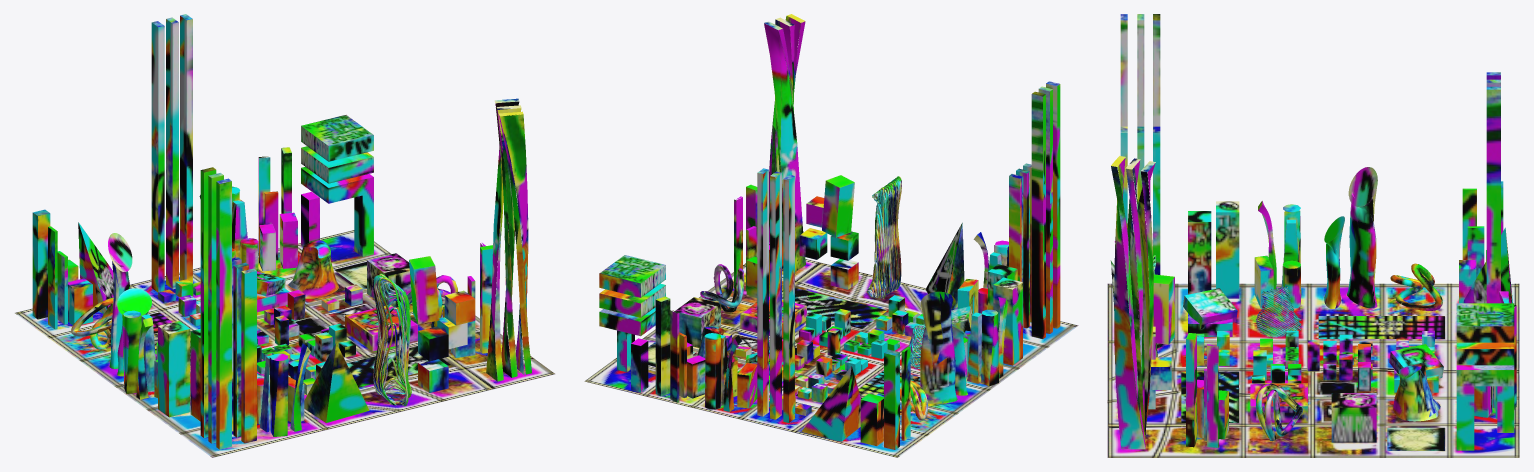
3 views of the same model, side by side, from view 1: azimuth 30°, elevation 25°; view 2: azimuth 150°, elevation 25°; view 3: azimuth 270°, elevation 25° (orthographic). The views are drawn at different scales.
Parts seen in each view (by area): view 1: Group 1; view 2: Group 1; view 3: Group 1.
Boxes of the visible parts, x1,y1,x2,y2 form: Group 1: (15, 14, 555, 457); Group 1: (584, 14, 1078, 457); Group 1: (1107, 14, 1519, 457).
Size of the model in its own units: 57 by 43.5 by 57.
Materials: 1 (1 with a texture image).
